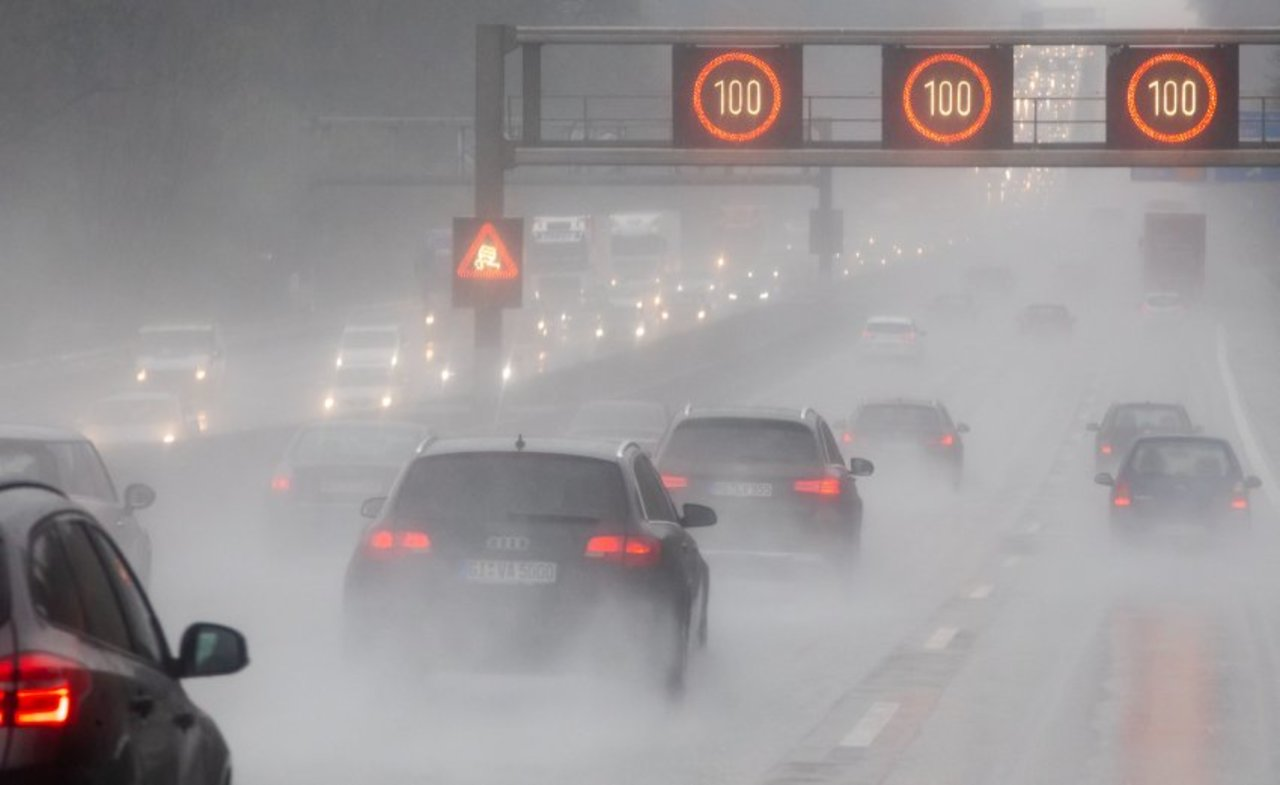car: (334, 437, 715, 727), (0, 461, 240, 783), (660, 410, 861, 589), (238, 423, 433, 584), (5, 420, 150, 604), (1108, 436, 1260, 555), (843, 398, 964, 498), (1091, 403, 1199, 487), (133, 323, 225, 396), (562, 398, 671, 457), (80, 391, 192, 445), (334, 321, 403, 374), (857, 314, 922, 362), (320, 375, 408, 407), (1016, 301, 1076, 342), (592, 300, 644, 343), (1137, 293, 1183, 333), (726, 274, 775, 308), (658, 292, 708, 318), (675, 267, 717, 295)
truck: (411, 228, 495, 369), (522, 214, 597, 305), (1136, 207, 1205, 303), (603, 208, 681, 277), (711, 205, 772, 275)
